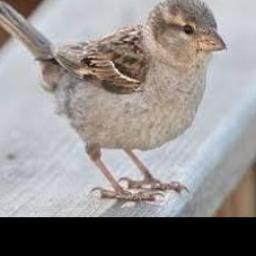Sparrow: (0, 0, 227, 200)
